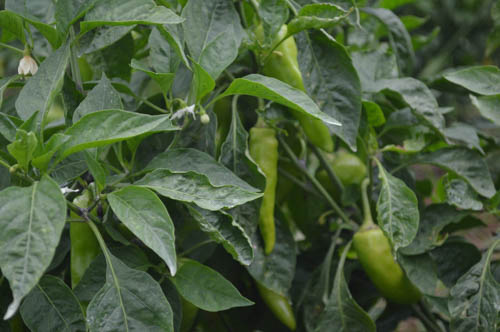ChiliPepper: (254, 26, 335, 150), (356, 228, 417, 303), (247, 128, 279, 256)
